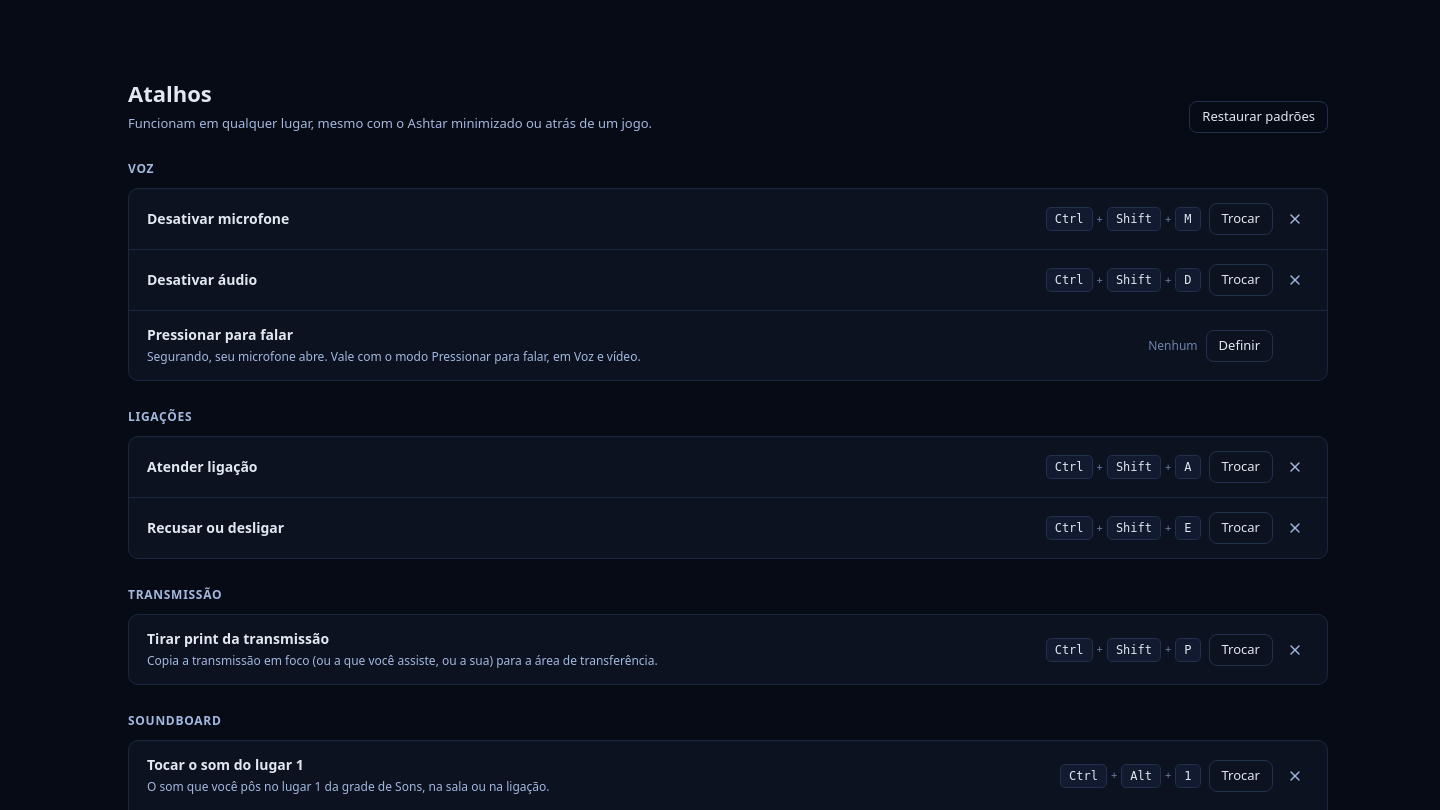
Configurações › Atalhos › gravar: a próxima combinação vira o atalho, e o gancho para de gravar
Later steps or results of the test are not shown.
Click the button with aria-label "Definir atalho de Pressionar para falar".
click(1239, 346)  # box [1206,330,1273,362]
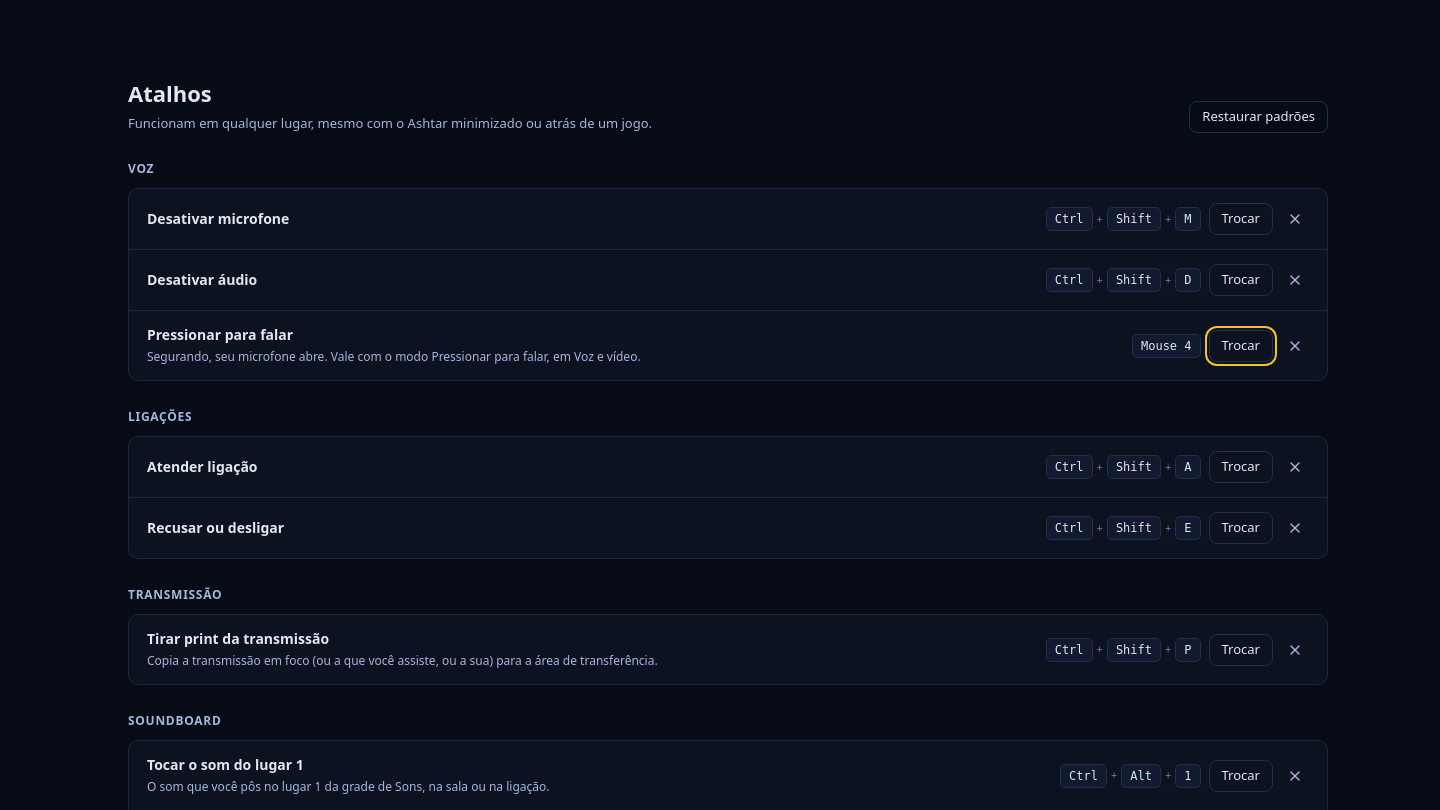
Check: the element named "Mouse 4" is shown, box [1132,334,1201,358]
